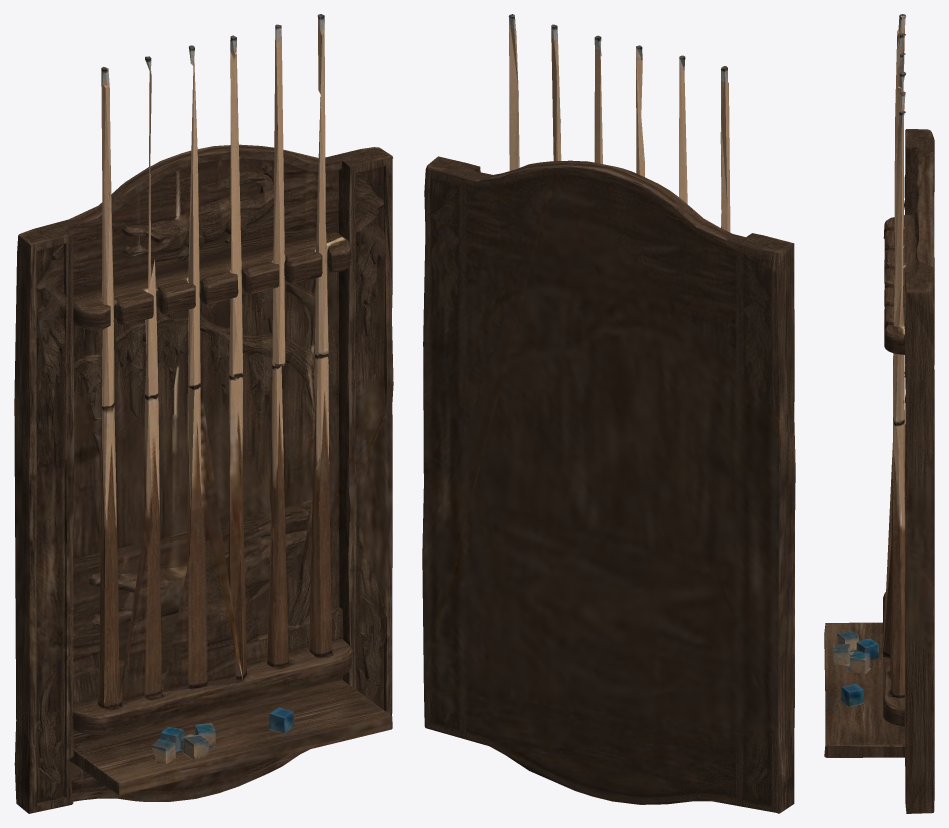
File: sp_m_cuerack.glb
3 renders of one model, left to right at view 1: azimuth 30°, elevation 25°; view 2: azimuth 150°, elevation 25°; view 3: azimuth 270°, elevation 25°, orthographic. The views are drawn at different scales.
Visible parts, largest first — view 1: Mesh_0; view 2: Mesh_0; view 3: Mesh_0.
Boxes of the visible parts, <box> form: Mesh_0: <box>14,14,393,813</box>; Mesh_0: <box>422,14,795,813</box>; Mesh_0: <box>824,14,934,813</box>.
Size of the model in its own units: 0.958 by 1.9 by 0.2734.
Materials: 1 (1 with a texture image).
